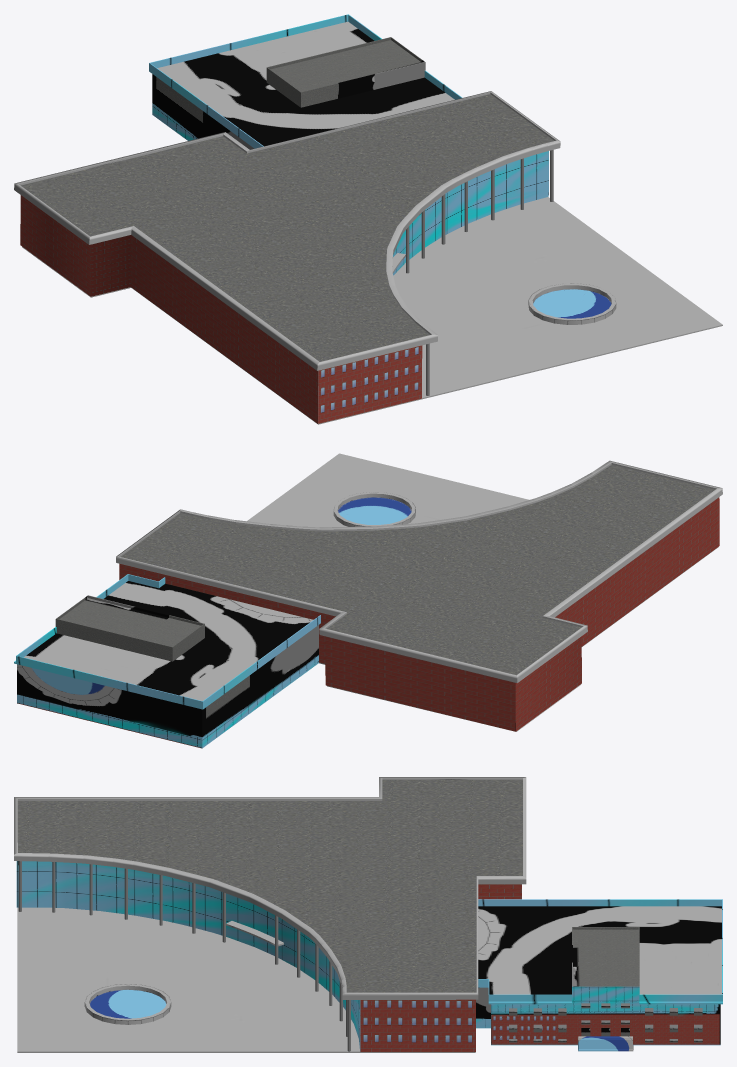
File: TownHall.fbx
3 renders of one model, top to bottom at view 1: azimuth 30°, elevation 25°; view 2: azimuth 150°, elevation 25°; view 3: azimuth 270°, elevation 25°, orthographic. The views are drawn at different scales.
Visible parts, largest first — view 1: TownHall2, TownHall1; view 2: TownHall2, TownHall1; view 3: TownHall2, TownHall1.
Boxes of the visible parts, left/top/right/bottom form: TownHall2: left=14, top=91, right=722, bottom=424; TownHall1: left=149, top=14, right=462, bottom=149; TownHall2: left=116, top=453, right=722, bottom=731; TownHall1: left=14, top=574, right=320, bottom=748; TownHall2: left=14, top=777, right=526, bottom=1052; TownHall1: left=476, top=899, right=722, bottom=1051.
Bounding box in the file's own units: 112 × 14.69 × 155.
Materials: 1 (1 with a texture image).
